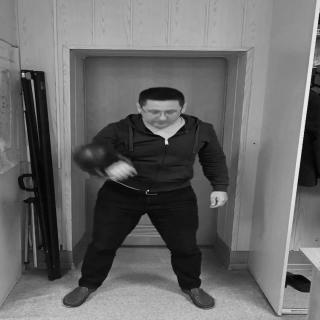kettlebell: (74, 143, 134, 180)
